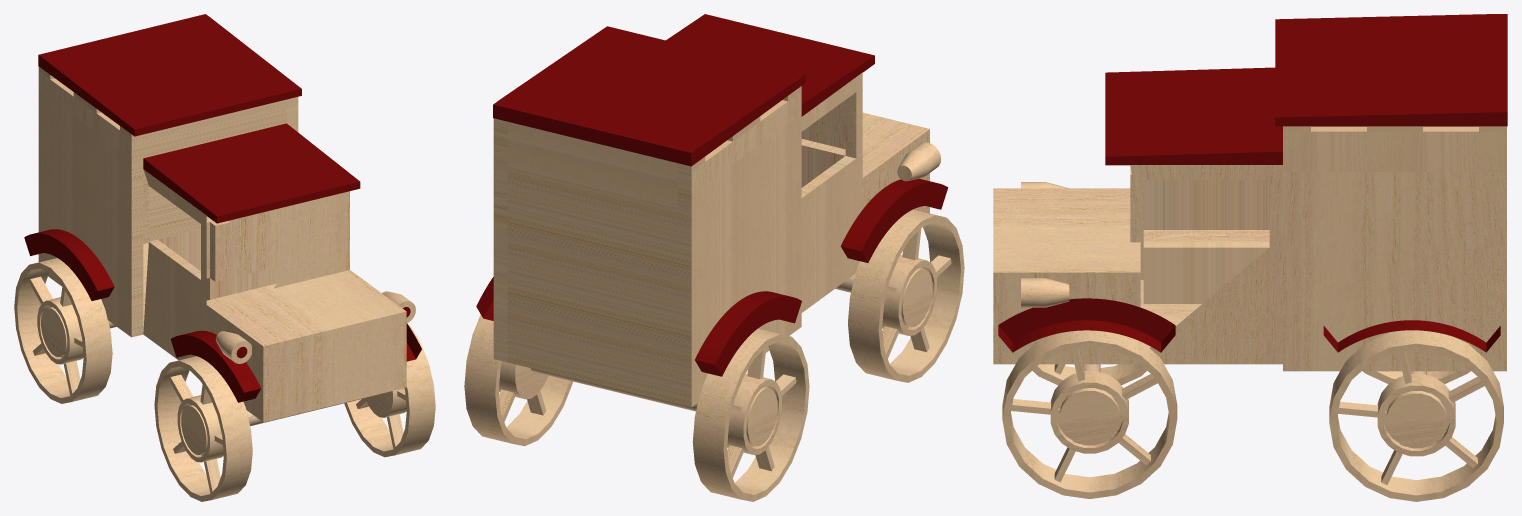
File: wooden_model _truck.obj
3 renders of one model, left to right at view 1: azimuth 30°, elevation 25°; view 2: azimuth 150°, elevation 25°; view 3: azimuth 270°, elevation 25°, orthographic. The views are drawn at different scales.
Parts seen in each view (by area): view 1: polySurface3 group3 Kamyon, group3 Kamyon pCube6, group3 Kamyon pCube5, group3 Kamyon teker_1, group3 Kamyon teker_2, group3 Kamyon teker_3, group3 Kamyon pCube8, group3 Kamyon pCube7, group3 Kamyon pCylinder3; view 2: polySurface3 group3 Kamyon, group3 Kamyon pCube6, group3 Kamyon teker_1, group3 Kamyon teker_2, group3 Kamyon teker_4, group3 Kamyon pCube5, group3 Kamyon pCube8, group3 Kamyon pCube7, group3 Kamyon pCylinder3, group3 Kamyon pCylinder5; view 3: polySurface3 group3 Kamyon, group3 Kamyon pCube6, group3 Kamyon pCube5, group3 Kamyon teker_4, group3 Kamyon teker_3, group3 Kamyon pCube10, group3 Kamyon pCube9, group3 Kamyon pCylinder4, group3 Kamyon teker_1, group3 Kamyon teker_2.
Part boxes in pixels (bbox=[...]): polySurface3 group3 Kamyon: bbox=[38, 66, 406, 422]; group3 Kamyon pCube6: bbox=[38, 14, 301, 136]; group3 Kamyon pCube5: bbox=[143, 123, 360, 223]; group3 Kamyon teker_1: bbox=[154, 356, 252, 501]; group3 Kamyon teker_2: bbox=[14, 258, 112, 403]; group3 Kamyon teker_3: bbox=[344, 323, 435, 457]; group3 Kamyon pCube8: bbox=[24, 229, 114, 300]; group3 Kamyon pCube7: bbox=[170, 330, 261, 402]; group3 Kamyon pCylinder3: bbox=[215, 331, 251, 363]; polySurface3 group3 Kamyon: bbox=[493, 72, 929, 407]; group3 Kamyon pCube6: bbox=[493, 26, 805, 166]; group3 Kamyon teker_1: bbox=[848, 209, 964, 382]; group3 Kamyon teker_2: bbox=[692, 328, 809, 501]; group3 Kamyon teker_4: bbox=[464, 314, 572, 446]; group3 Kamyon pCube5: bbox=[666, 14, 874, 116]; group3 Kamyon pCube8: bbox=[695, 291, 801, 376]; group3 Kamyon pCube7: bbox=[840, 178, 948, 262]; group3 Kamyon pCylinder3: bbox=[897, 142, 940, 181]; group3 Kamyon pCylinder5: bbox=[531, 368, 697, 411]; polySurface3 group3 Kamyon: bbox=[993, 126, 1506, 371]; group3 Kamyon pCube6: bbox=[1275, 14, 1507, 126]; group3 Kamyon pCube5: bbox=[1105, 67, 1282, 165]; group3 Kamyon teker_4: bbox=[1329, 330, 1503, 501]; group3 Kamyon teker_3: bbox=[1002, 330, 1177, 498]; group3 Kamyon pCube10: bbox=[998, 298, 1175, 352]; group3 Kamyon pCube9: bbox=[1323, 320, 1500, 352]; group3 Kamyon pCylinder4: bbox=[1021, 278, 1069, 307]; group3 Kamyon teker_1: bbox=[1032, 364, 1147, 385]; group3 Kamyon teker_2: bbox=[1363, 371, 1469, 383].
Bounding box in the file's own units: 12.62 × 17.13 × 21.32.
3 materials, 2 textured.
